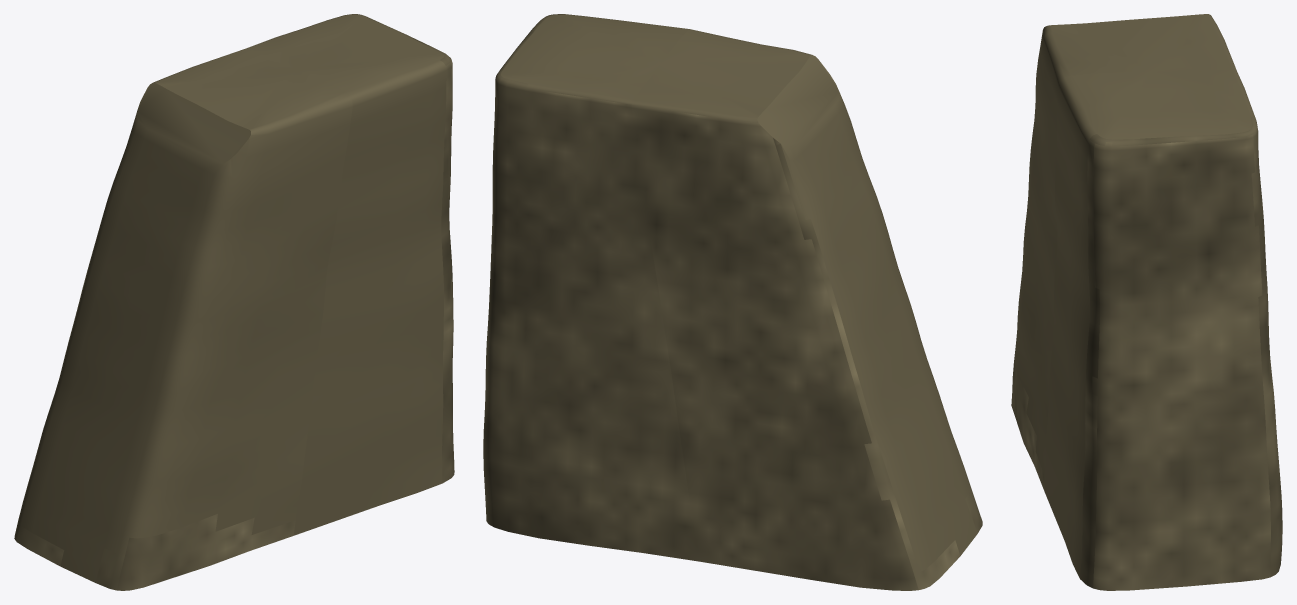
The model's file is ZonHenge06.glb.
The picture shows the model from 3 angles, left to right: view 1: azimuth 30°, elevation 25°; view 2: azimuth 150°, elevation 25°; view 3: azimuth 270°, elevation 25°; orthographic projection. The views are drawn at different scales.
Visible parts, largest first — view 1: ZonHenge06; view 2: ZonHenge06; view 3: ZonHenge06.
Boxes of the visible parts, left/top/right/bottom form: ZonHenge06: left=14, top=14, right=454, bottom=590; ZonHenge06: left=483, top=14, right=982, bottom=590; ZonHenge06: left=1011, top=14, right=1282, bottom=590.
Bounding box in the file's own units: 2.49 × 2.49 × 1.35.
Materials: 2 (1 with a texture image).
